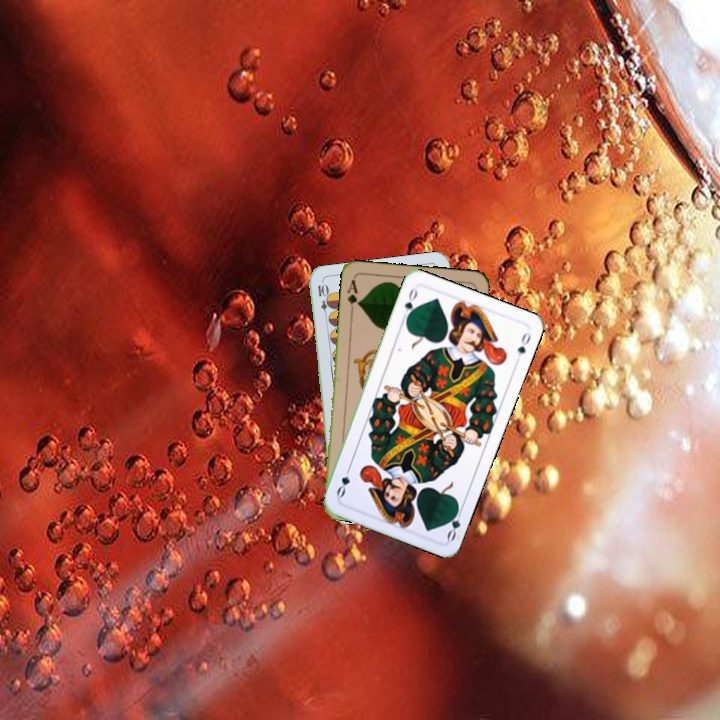E10: (313, 280, 331, 321)
GA: (343, 276, 362, 316)
GO: (443, 502, 466, 543), (398, 284, 420, 324)
